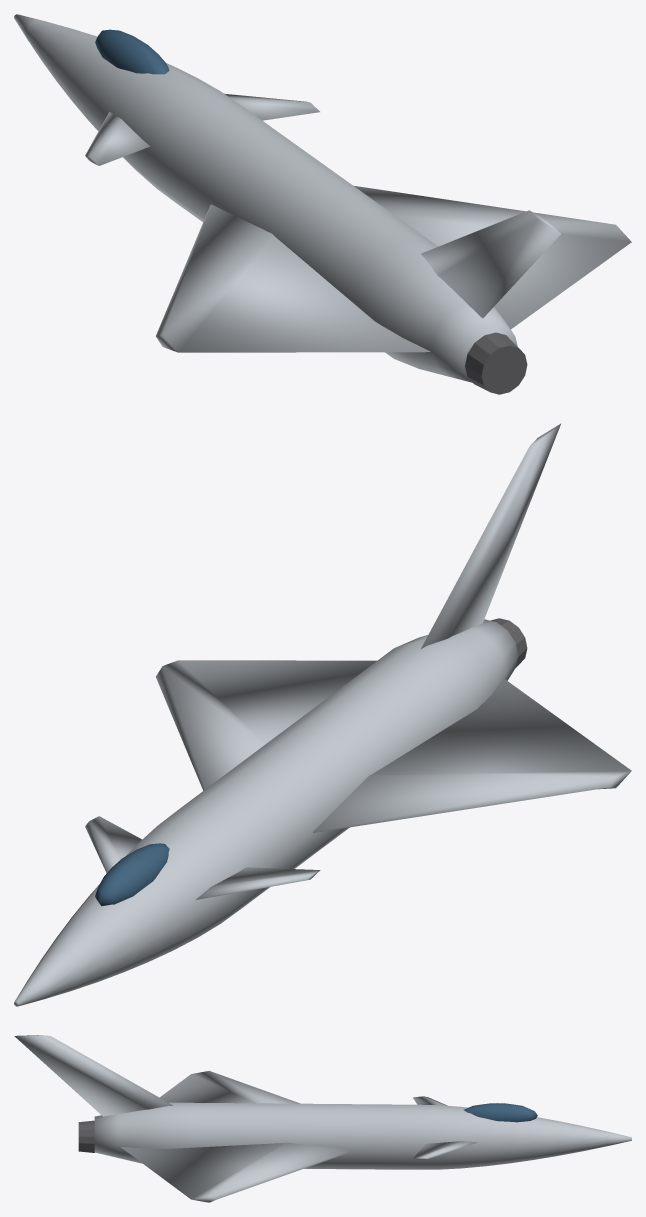
File: gripen.fbx
3 renders of one model, top to bottom at view 1: azimuth 30°, elevation 25°; view 2: azimuth 150°, elevation 25°; view 3: azimuth 270°, elevation 25°, orthographic. The views are drawn at different scales.
Visible parts, largest first — view 1: Body, Detail, Canopy; view 2: Body, Canopy; view 3: Body, Canopy, Detail.
Part boxes in pixels (bbox=[...]): Body: bbox=[14, 14, 631, 382]; Detail: bbox=[465, 332, 527, 394]; Canopy: bbox=[95, 29, 169, 74]; Body: bbox=[14, 423, 631, 1006]; Canopy: bbox=[95, 843, 169, 906]; Body: bbox=[14, 1035, 631, 1202]; Canopy: bbox=[464, 1103, 537, 1122]; Detail: bbox=[78, 1120, 94, 1152].
Bounding box in the file's own units: 840 × 408 × 1748.
